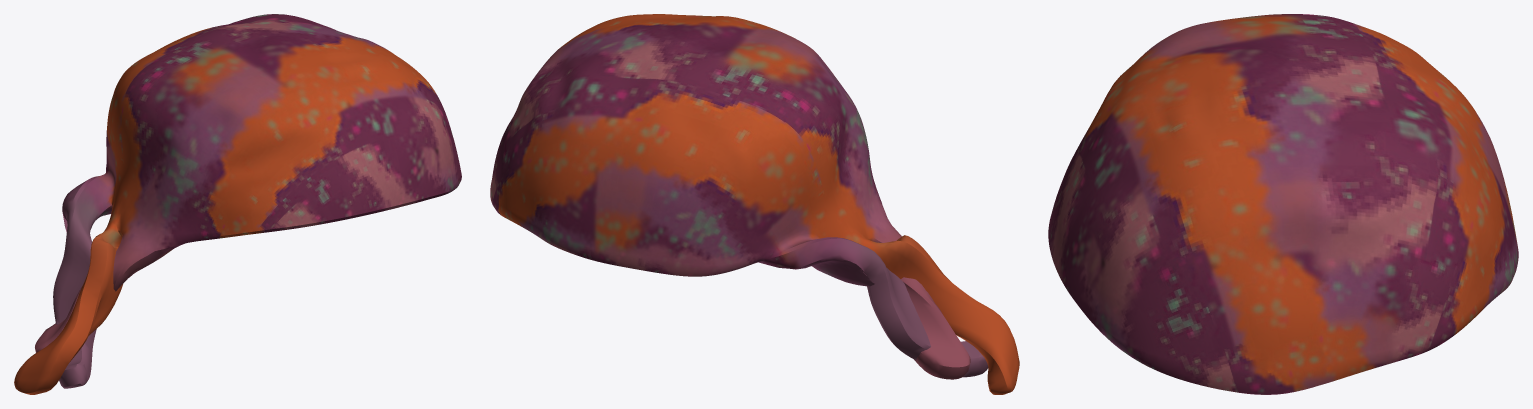
File: Bandana.gltf
3 renders of one model, left to right at view 1: azimuth 30°, elevation 25°; view 2: azimuth 150°, elevation 25°; view 3: azimuth 270°, elevation 25°, orthographic. The views are drawn at different scales.
Visible parts, largest first — view 1: hat1; view 2: hat1; view 3: hat1.
Part boxes in pixels (<box>): hat1: <box>14,14,461,394</box>; hat1: <box>490,14,1019,394</box>; hat1: <box>1048,14,1518,394</box>.
Bounding box in the file's own units: 9.71 × 5.8 × 6.31.
1 material, 1 textured.
